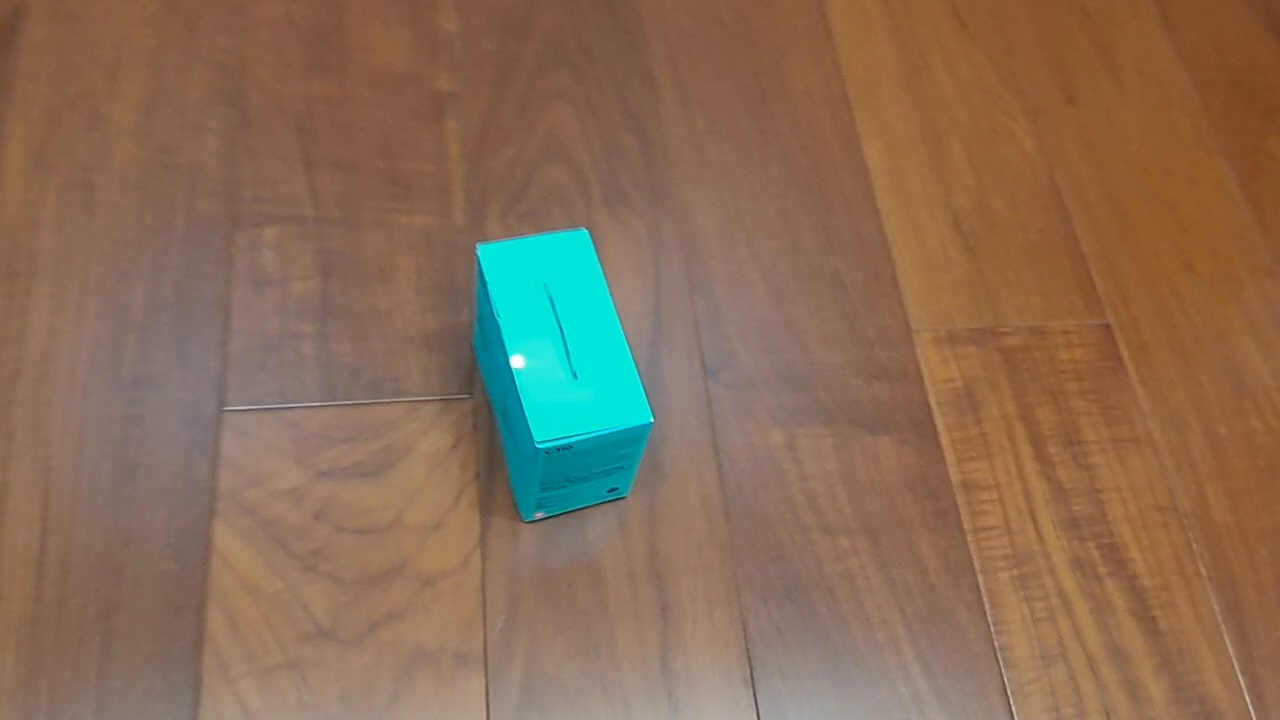webcam: (471, 227, 655, 524)
